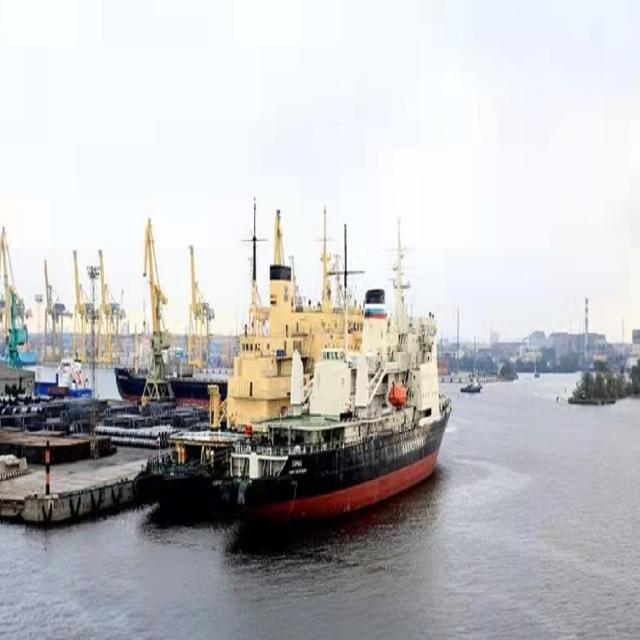cargoship: (254, 326, 467, 529)
